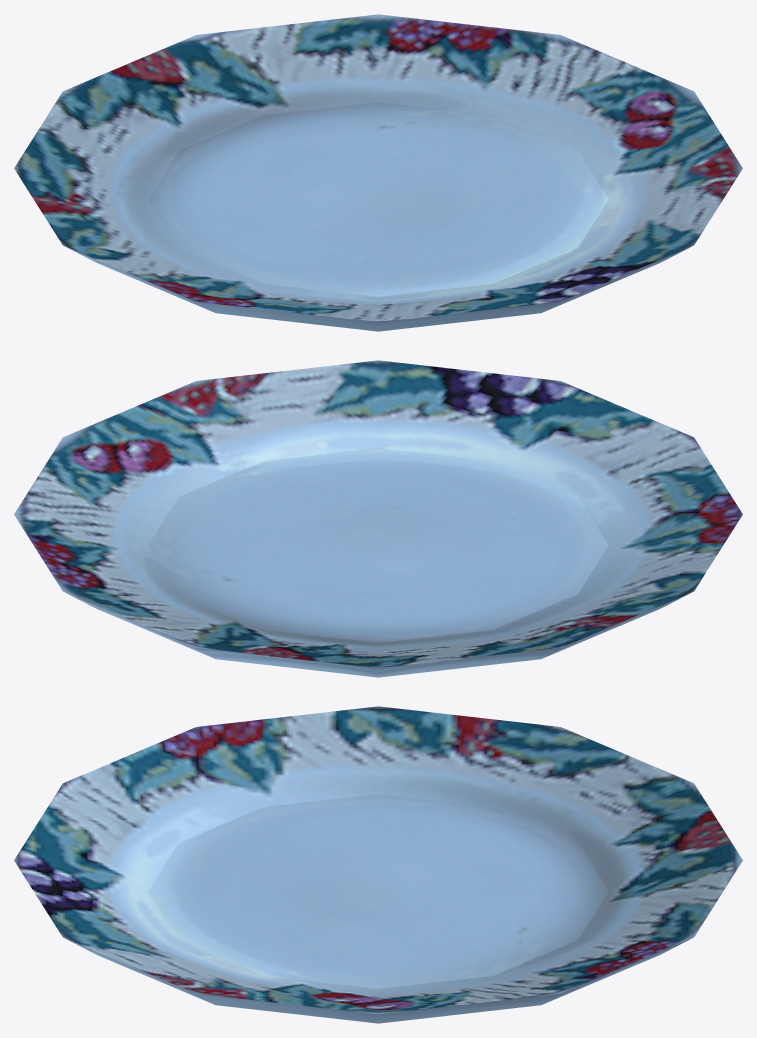
Rendered from dish-6.FBX.
The picture shows the model from 3 angles, top to bottom: view 1: azimuth 30°, elevation 25°; view 2: azimuth 150°, elevation 25°; view 3: azimuth 270°, elevation 25°; orthographic projection.
Parts seen in each view (by area): view 1: Line01; view 2: Line01; view 3: Line01.
Boxes of the visible parts, x1,y1,x2,y2 form: Line01: [14, 14, 742, 331]; Line01: [14, 360, 742, 677]; Line01: [14, 706, 742, 1023].
Size of the model in its own units: 8.45 by 0.9373 by 8.45.
